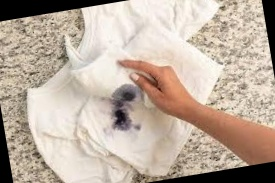ink: (111, 85, 137, 105), (111, 108, 132, 130)
